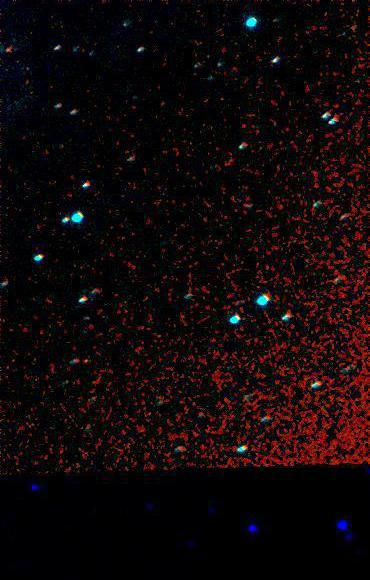star: (0, 34, 24, 64)
